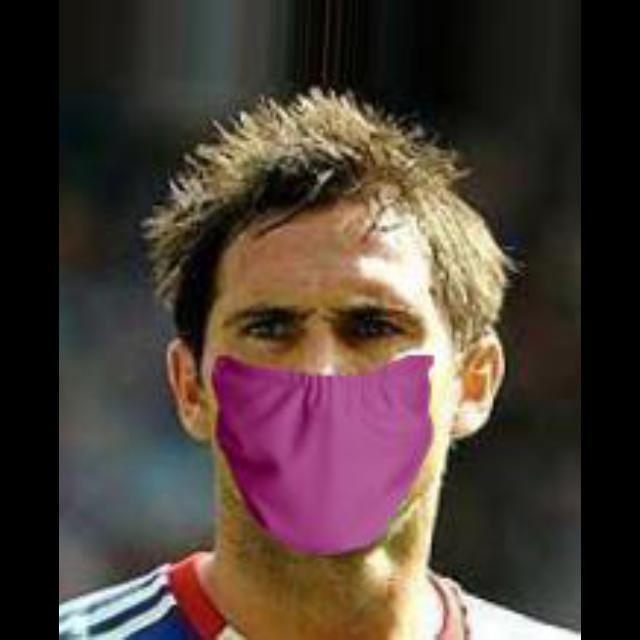suspicion: (143, 144, 515, 522)
